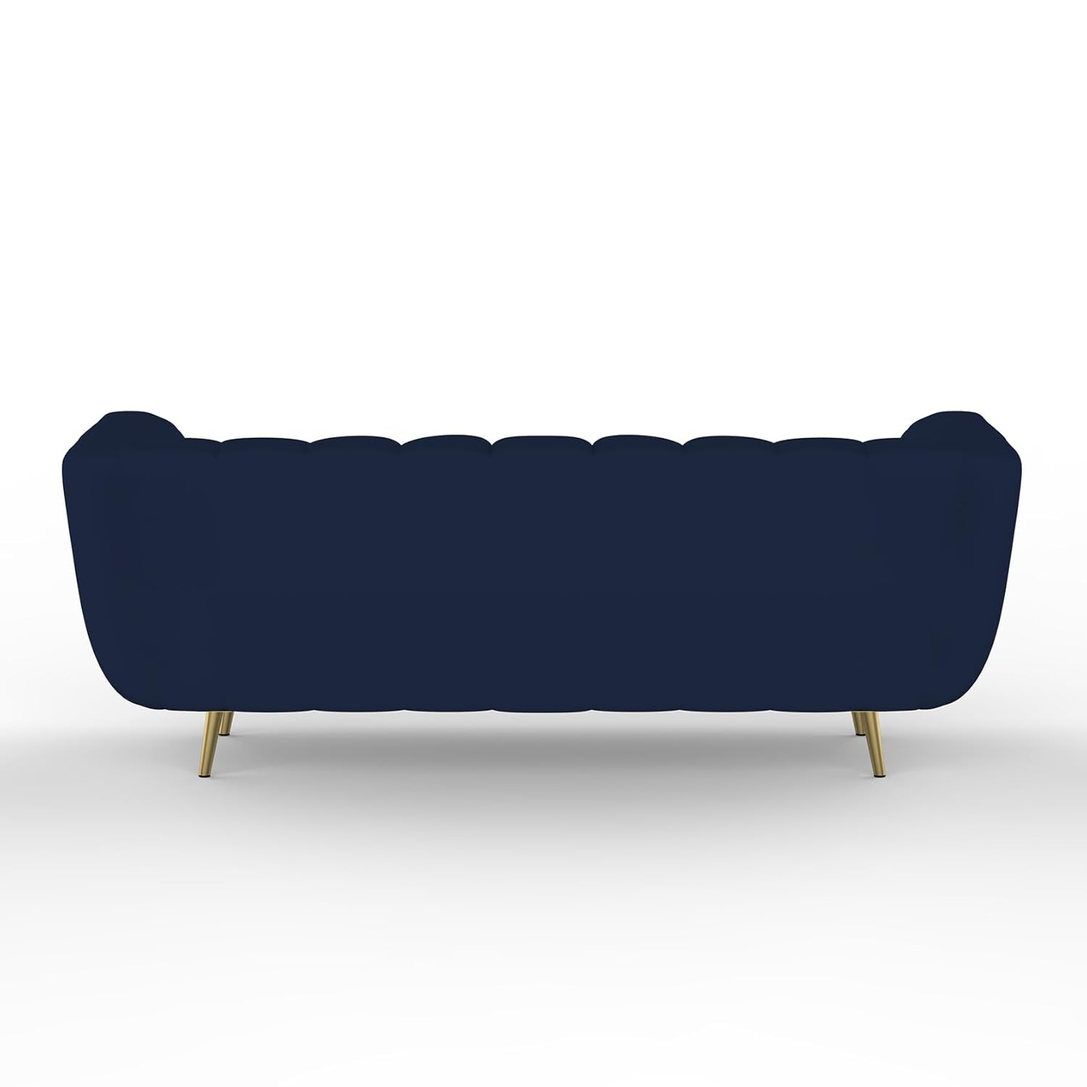3seatersofa: (63, 412, 1020, 776)
backrest: (180, 431, 902, 589)
leftarmrest: (858, 410, 1023, 717)
leg: (199, 712, 233, 777), (853, 712, 885, 777)
rightarmrest: (63, 404, 207, 707)
seat: (196, 573, 874, 716)
